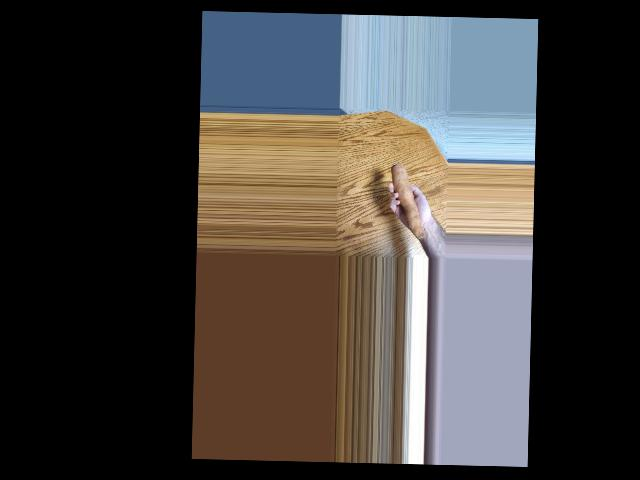sweet_potato: (388, 162, 426, 237)
